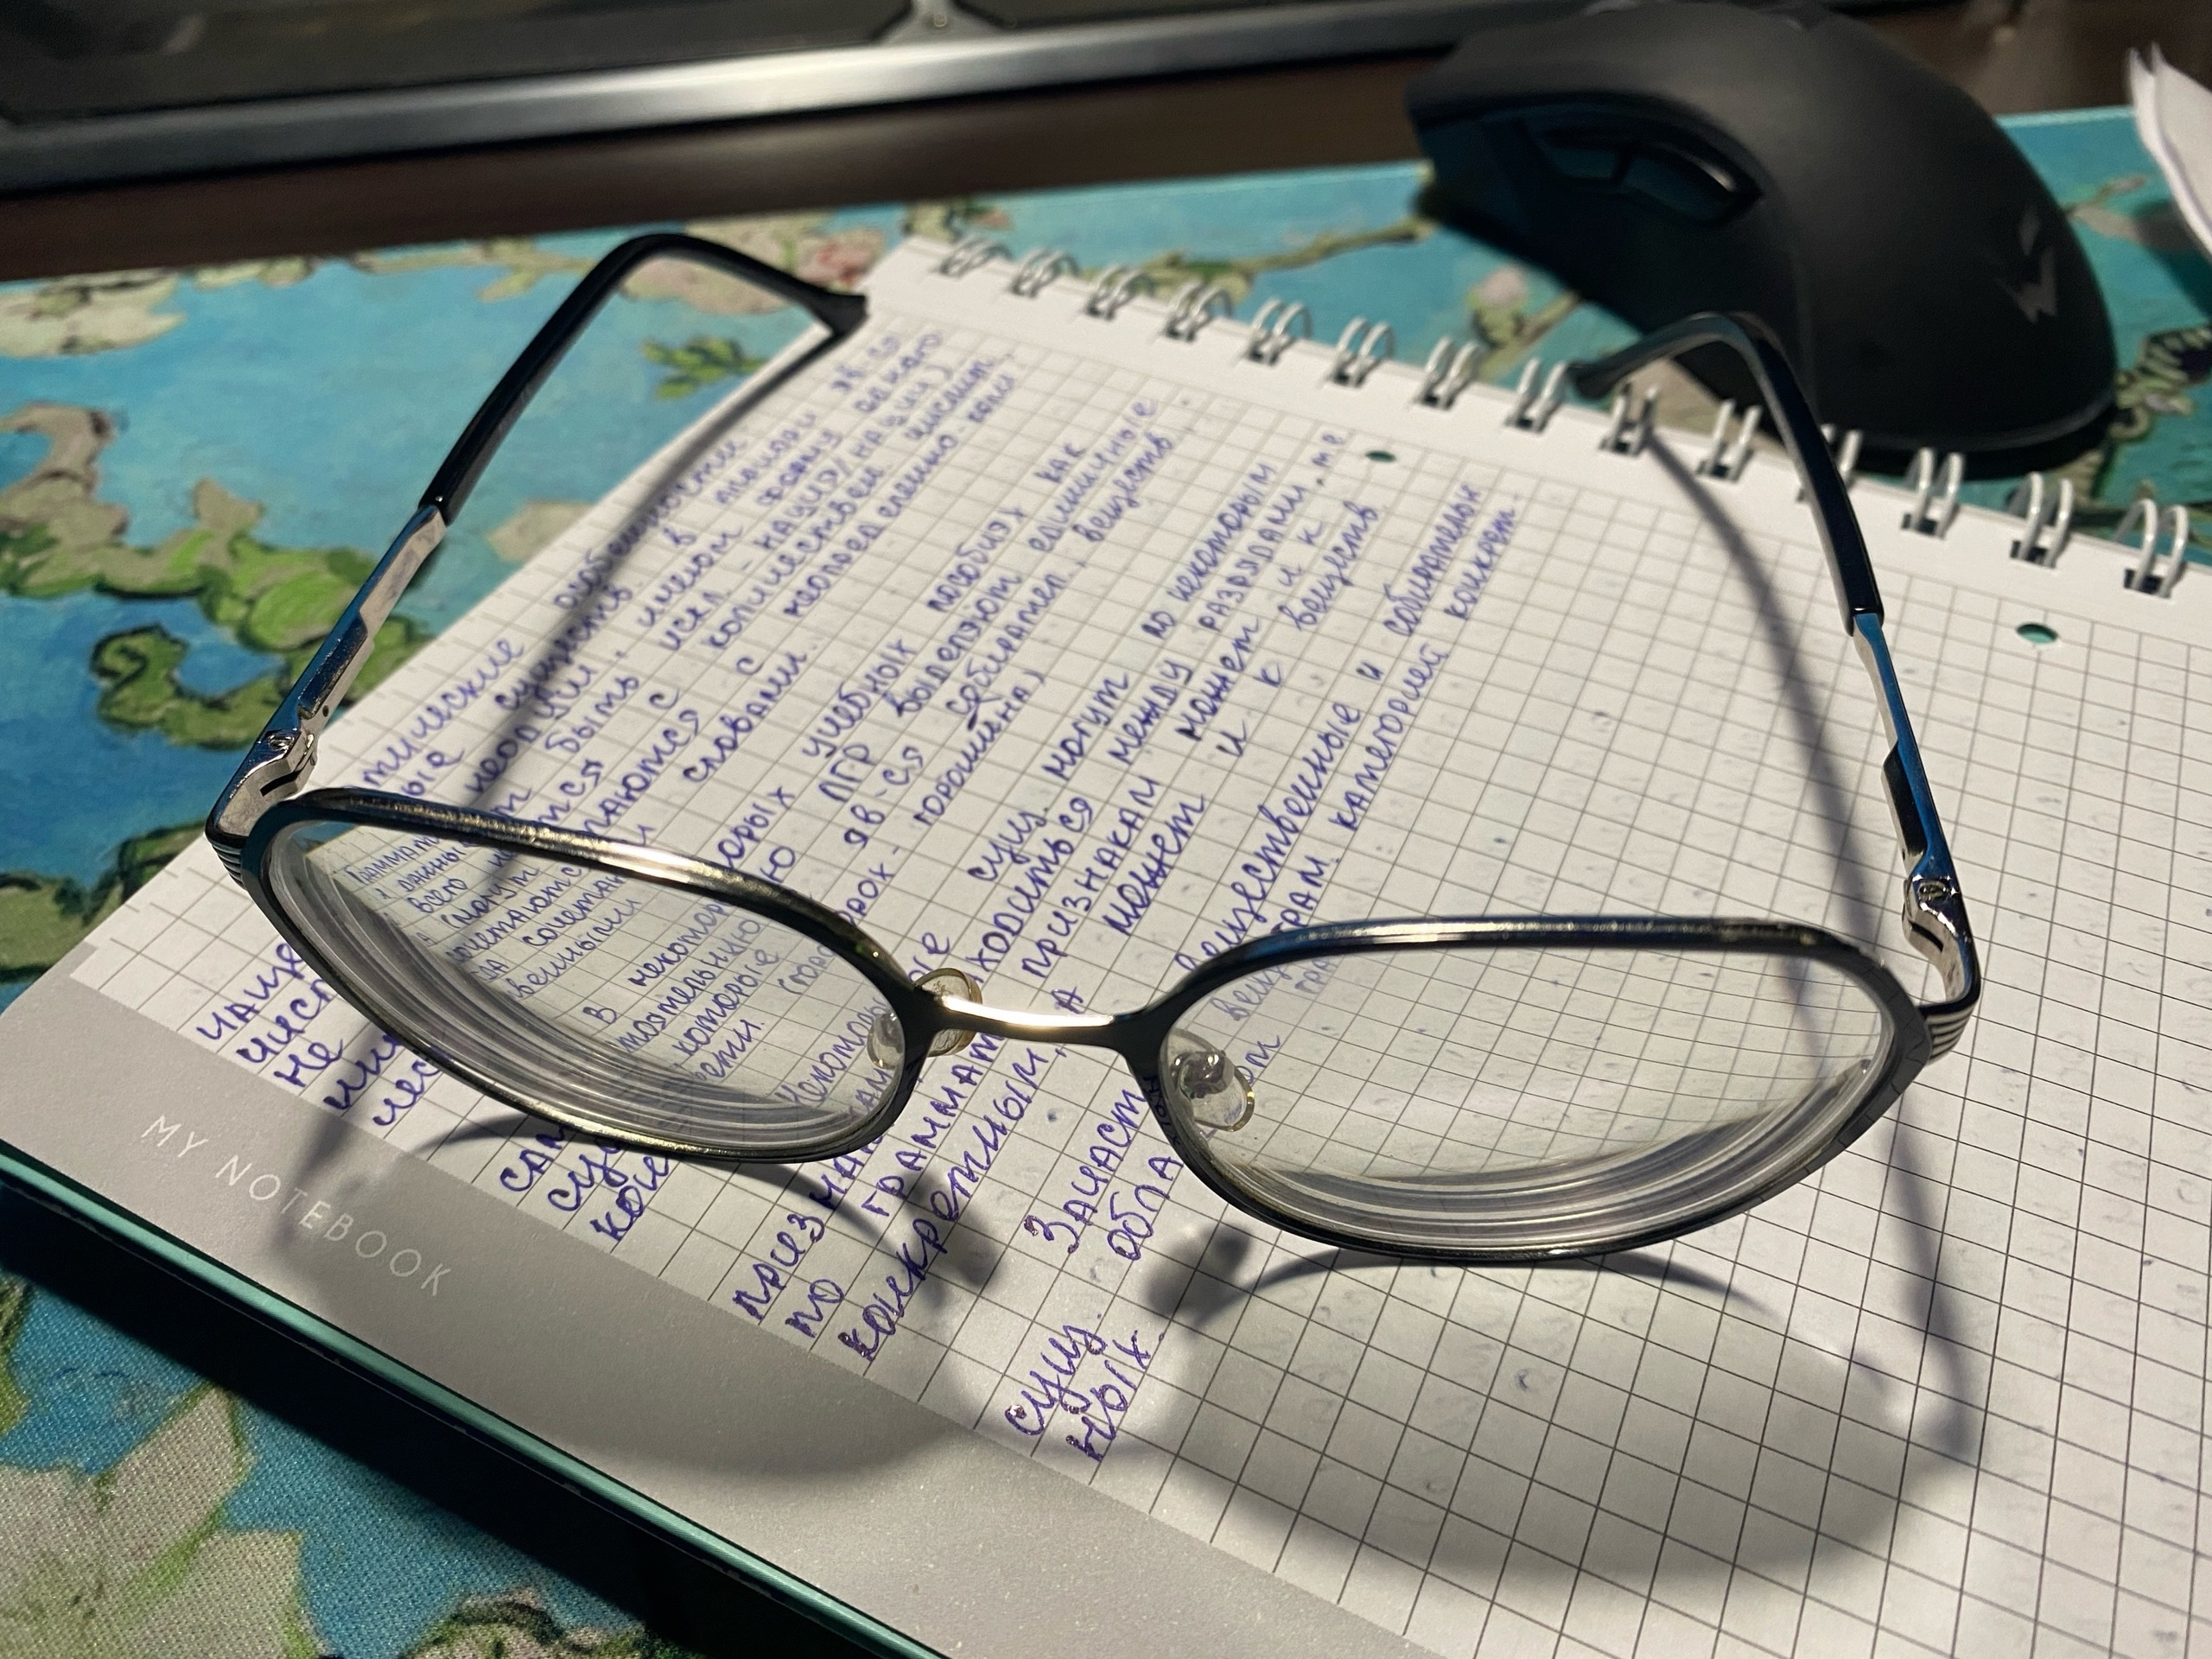glasses: (207, 234, 1980, 1260)
